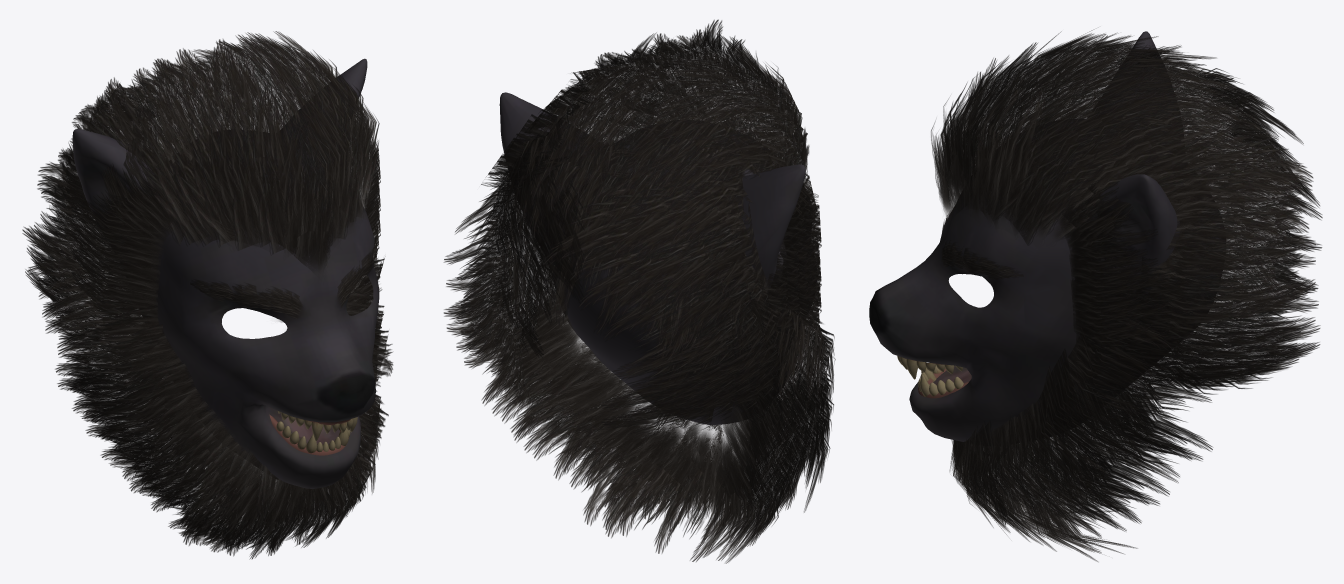
The model's file is werewolf.glb.
The picture shows the model from 3 angles, left to right: view 1: azimuth 30°, elevation 25°; view 2: azimuth 150°, elevation 25°; view 3: azimuth 270°, elevation 25°; orthographic projection. The views are drawn at different scales.
Parts seen in each view (by area): view 1: Werewolf; view 2: Werewolf; view 3: Werewolf.
Part boxes in pixels (x1=…): Werewolf: x1=22, y1=31, x2=393, y2=559; Werewolf: x1=444, y1=19, x2=835, y2=563; Werewolf: x1=869, y1=29, x2=1322, y2=561.
Bounding box in the file's own units: 2.03 × 2.86 × 2.28.
3 materials, 3 textured.
